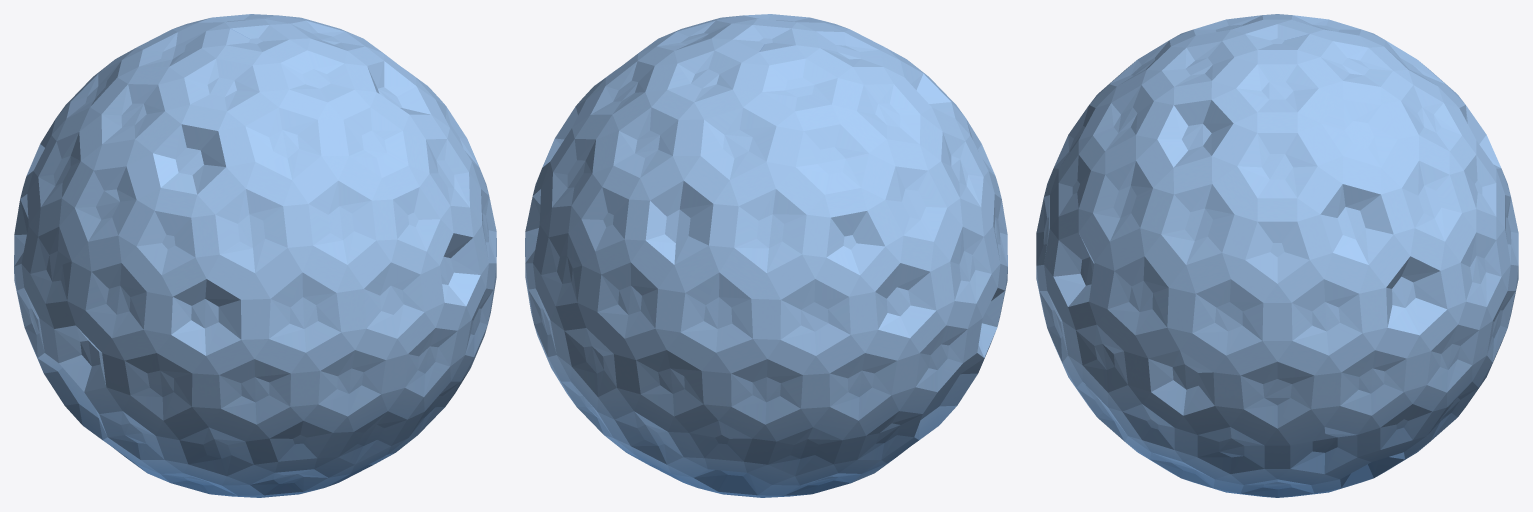
The model's file is Wate_Planet_Stage1.FBX.
The picture shows the model from 3 angles, left to right: view 1: azimuth 30°, elevation 25°; view 2: azimuth 150°, elevation 25°; view 3: azimuth 270°, elevation 25°; orthographic projection.
Parts seen in each view (by area): view 1: Water_Stage_1; view 2: Water_Stage_1; view 3: Water_Stage_1.
Part boxes in pixels (x1,y1,x2,y2): Water_Stage_1: (14, 14, 496, 497); Water_Stage_1: (525, 14, 1007, 497); Water_Stage_1: (1036, 14, 1518, 497).
Size of the model in its own units: 97.58 by 95.92 by 97.23.
1 material, 1 textured.
